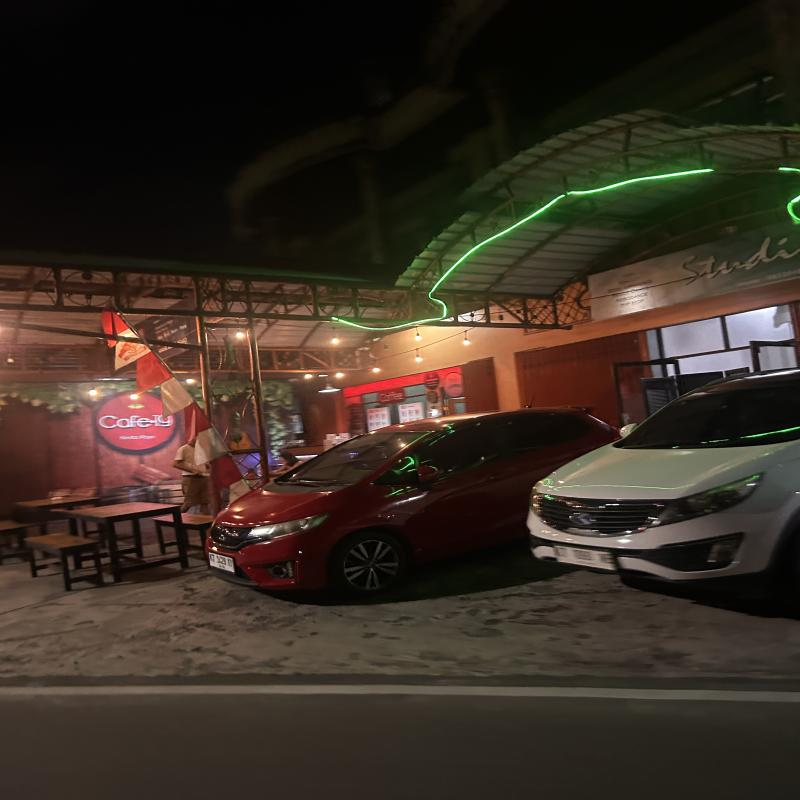license plate on a car: (551, 544, 623, 576), (205, 552, 246, 573)
